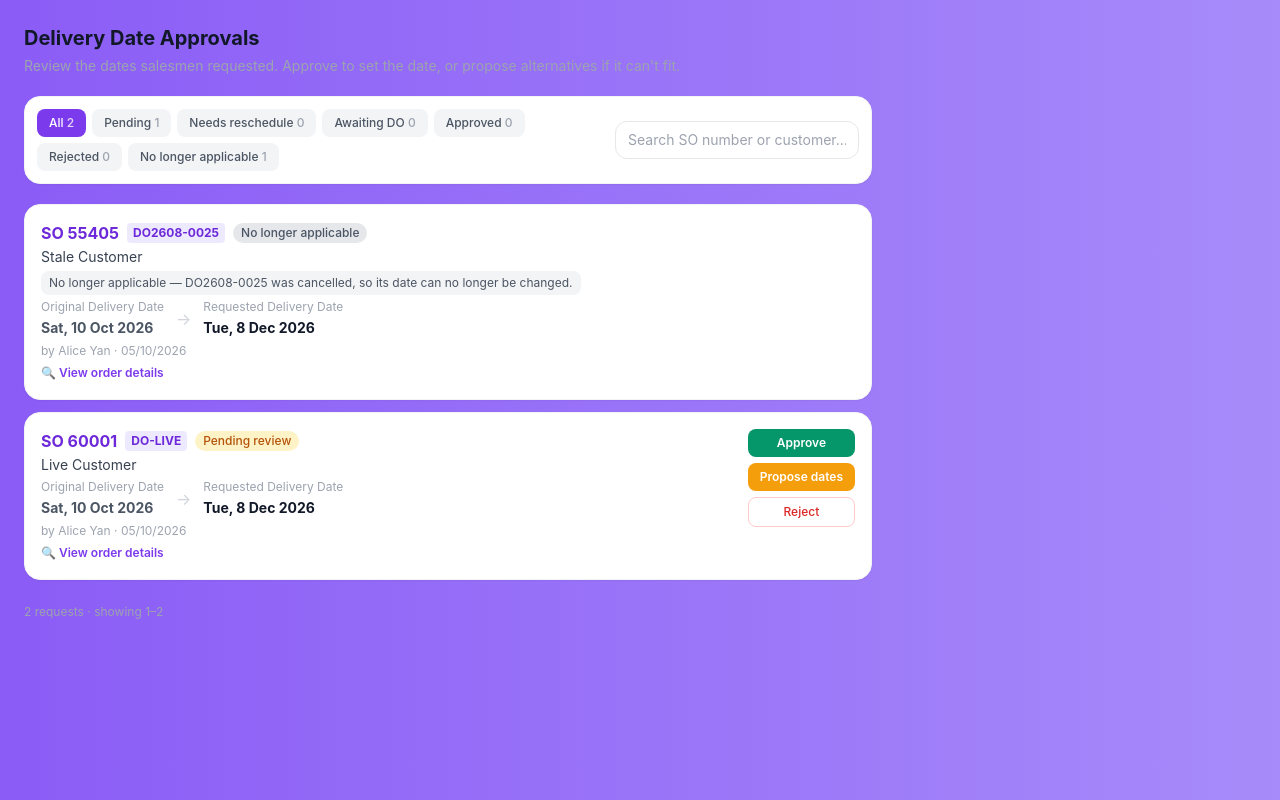
Scenario: approver: Pending filter counts / lists only the actionable request
Expected: the text "SO 55405" is shown, [41,221,119,245]
Expected: the button "No longer applicable 1" is shown, [128,143,279,171]
Click the button "Pending 1" at (132, 123), box [92,109,171,137]
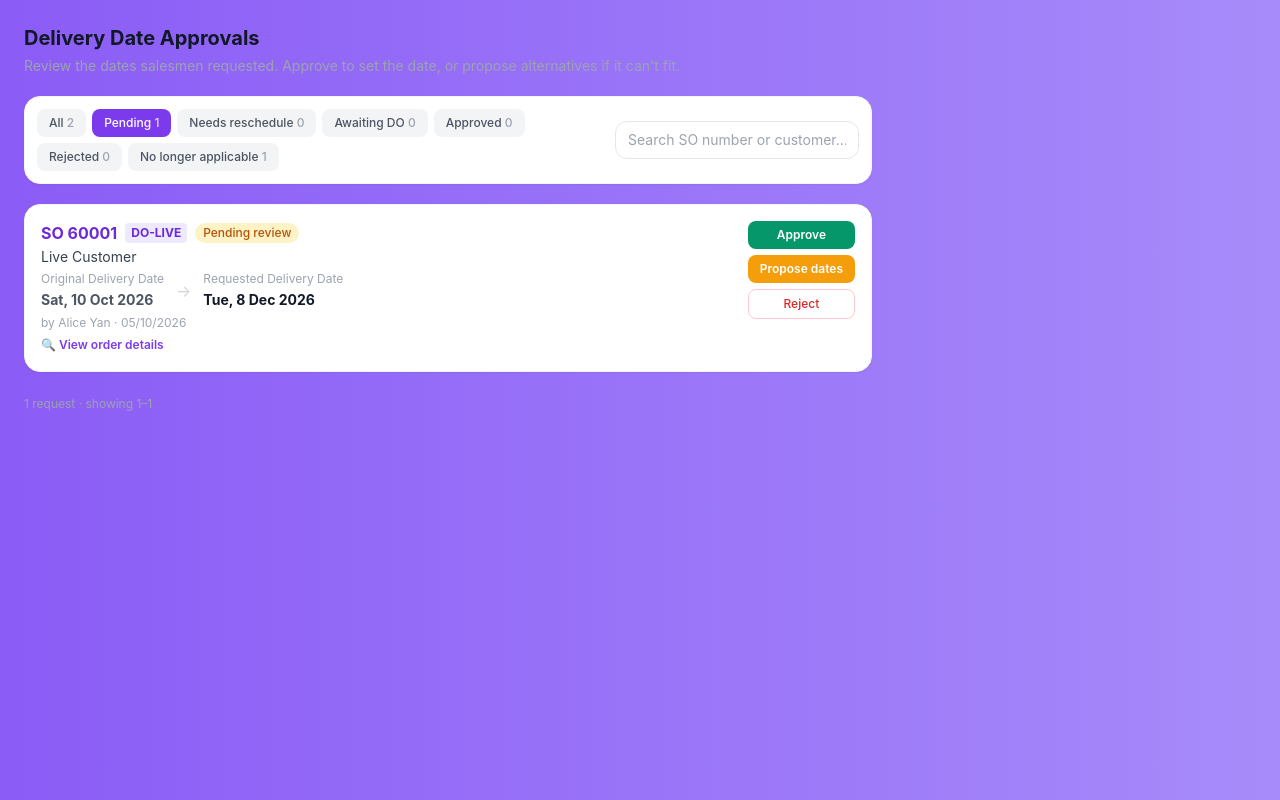
Expected: the text "SO 60001" is shown, [41,221,117,245]
Expected: the text "SO 55405" is gone
Click the button "No longer applicable 1" at (203, 157), box [128,143,279,171]
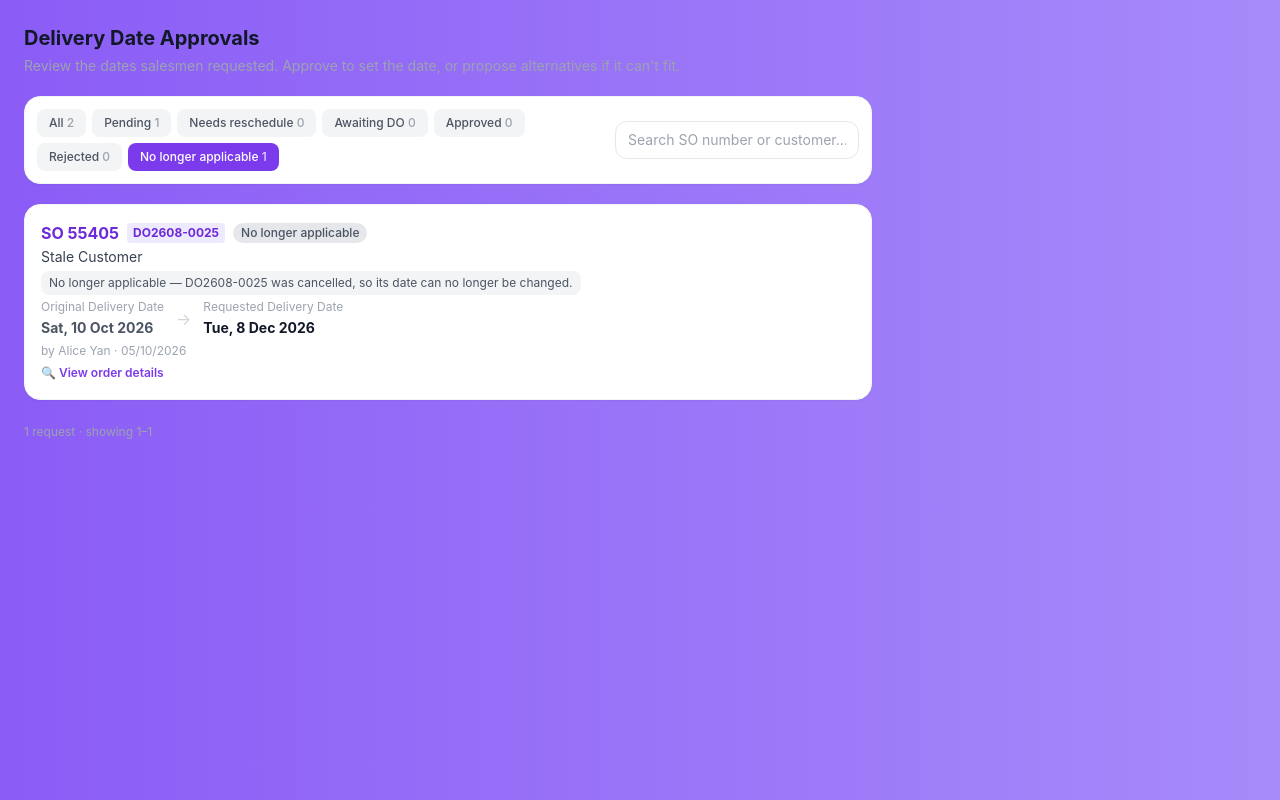
Expected: the text "SO 55405" is shown, [41,221,119,245]
Expected: the text "SO 60001" is gone
